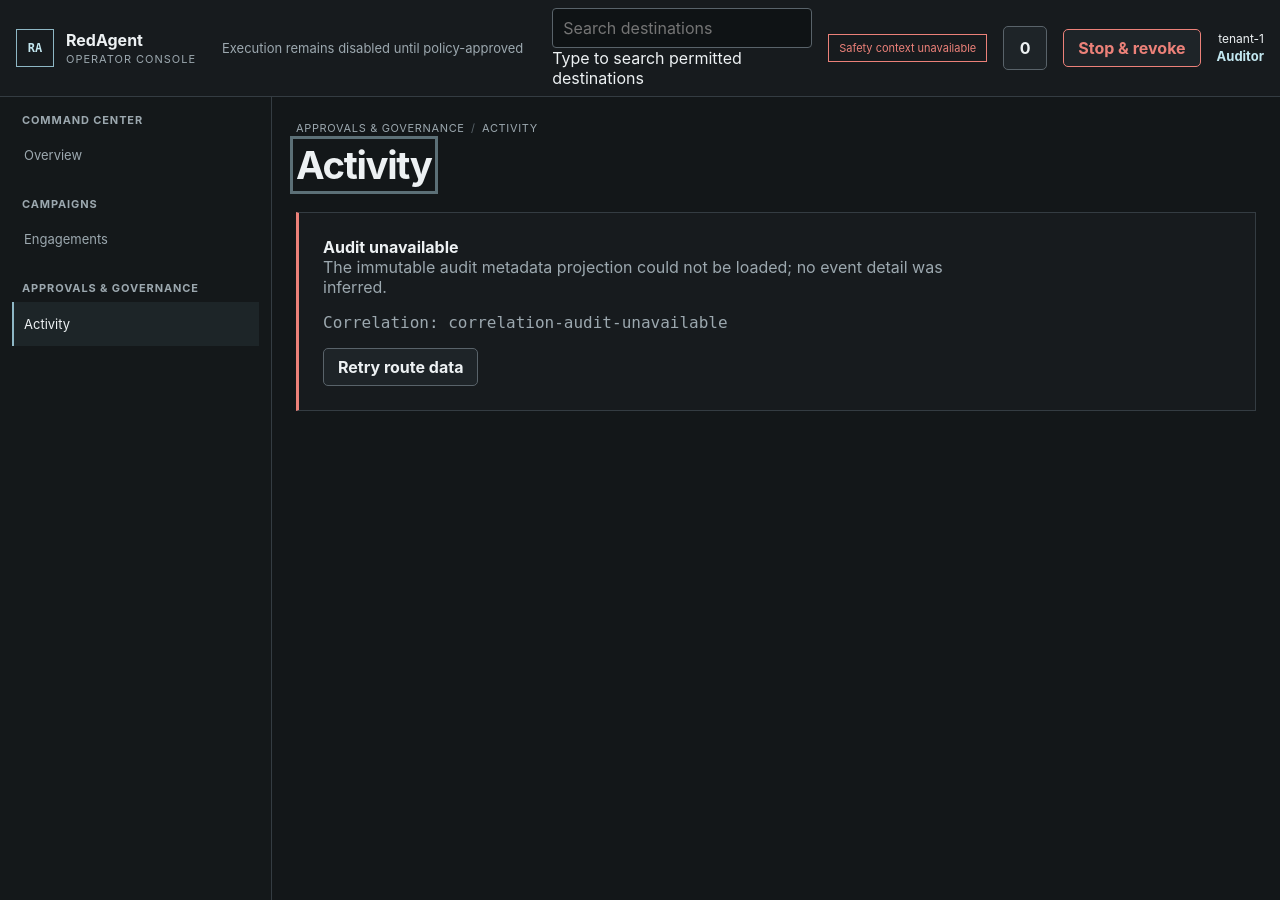
it: activity console › renders audit-unavailable correlation evidence and retries
The image size is (1280, 900).
Expected: the message "Audit unavailable" is shown, x1=296 y1=212 x2=1256 y2=411
Expected: the text "Correlation: correlation-audit-unavailable" is shown, x1=323 y1=313 x2=728 y2=332
Click the button "Retry route data". click: (401, 367)
box: x1=323 y1=348 x2=478 y2=386
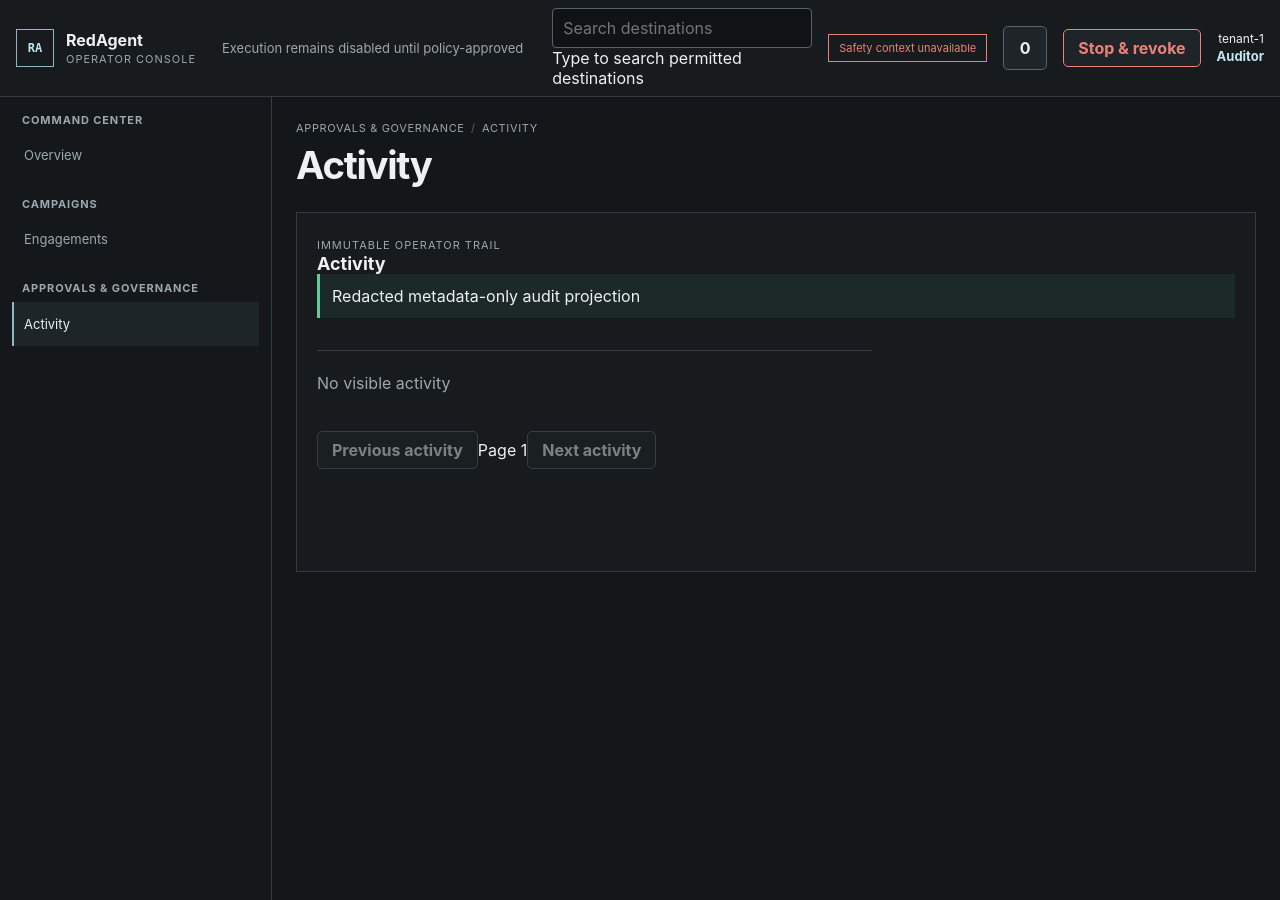
Now the text "No visible activity" is shown, box x1=317 y1=350 x2=872 y2=415
